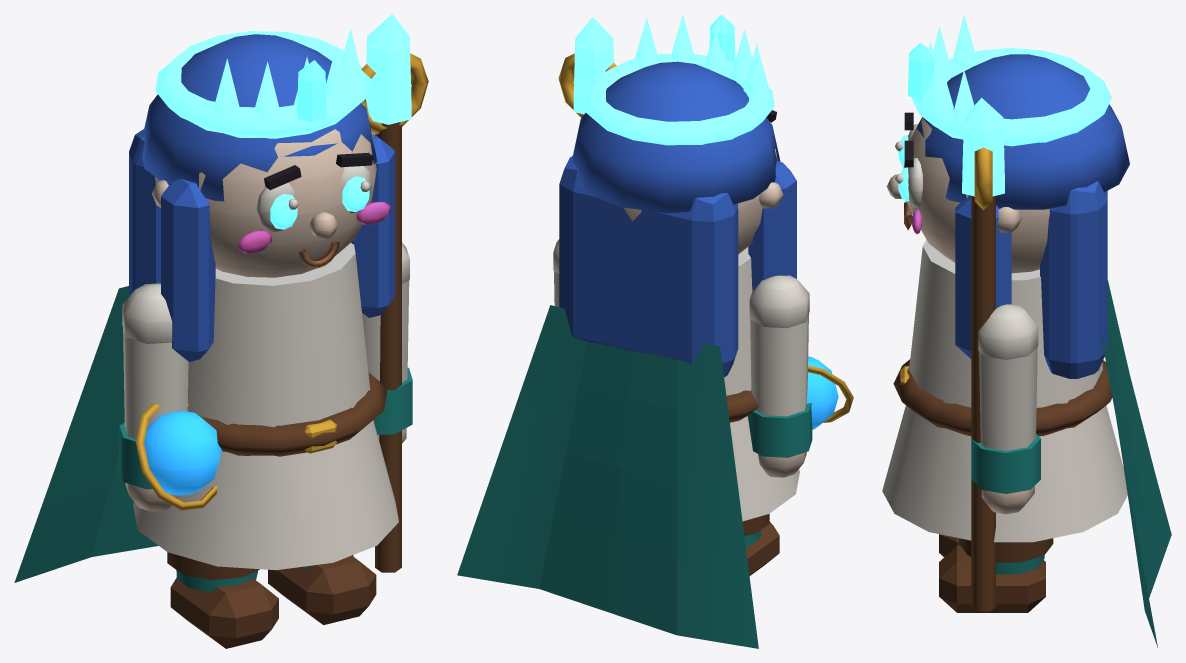
Rendered from hero_vivienne.glb.
The picture shows the model from 3 angles, left to right: view 1: azimuth 30°, elevation 25°; view 2: azimuth 150°, elevation 25°; view 3: azimuth 270°, elevation 25°; orthographic projection. The views are drawn at different scales.
Visible parts, largest first — view 1: body_t0_palette, arml_t0_palette, body_t0_crystal_teal, armr_t0_palette, legl_t0_palette, arml_t0_water, legr_t0_palette, armr_t0_crystal_teal, body_t0_crystal; view 2: body_t0_palette, arml_t0_palette, body_t0_crystal_teal, armr_t0_crystal_teal, legl_t0_palette, arml_t0_water, armr_t0_palette, body_t0_crystal; view 3: body_t0_palette, armr_t0_palette, body_t0_crystal_teal, legr_t0_palette, armr_t0_crystal_teal, body_t0_crystal.
Boxes of the visible parts, x1,y1,x2,y2 form: body_t0_palette: (14,34,398,582); arml_t0_palette: (119,283,217,511); body_t0_crystal_teal: (155,28,370,138); armr_t0_palette: (361,53,428,572); legl_t0_palette: (167,552,278,648); arml_t0_water: (144,410,221,495); legr_t0_palette: (268,555,376,624); armr_t0_crystal_teal: (366,14,411,124); body_t0_crystal: (270,60,369,229); body_t0_palette: (457,61,799,648); arml_t0_palette: (748,275,853,477); body_t0_crystal_teal: (582,14,774,145); armr_t0_crystal_teal: (573,17,613,114); legl_t0_palette: (742,514,779,575); arml_t0_water: (806,356,838,429); armr_t0_palette: (553,53,616,306); body_t0_crystal: (709,14,735,62); body_t0_palette: (882,54,1171,647); armr_t0_palette: (971,147,1040,611); body_t0_crystal_teal: (911,14,1111,146); legr_t0_palette: (939,538,1053,612); armr_t0_crystal_teal: (962,97,1004,196); body_t0_crystal: (898,42,934,201).
Size of the model in its own units: 0.32 by 0.53 by 0.257.
